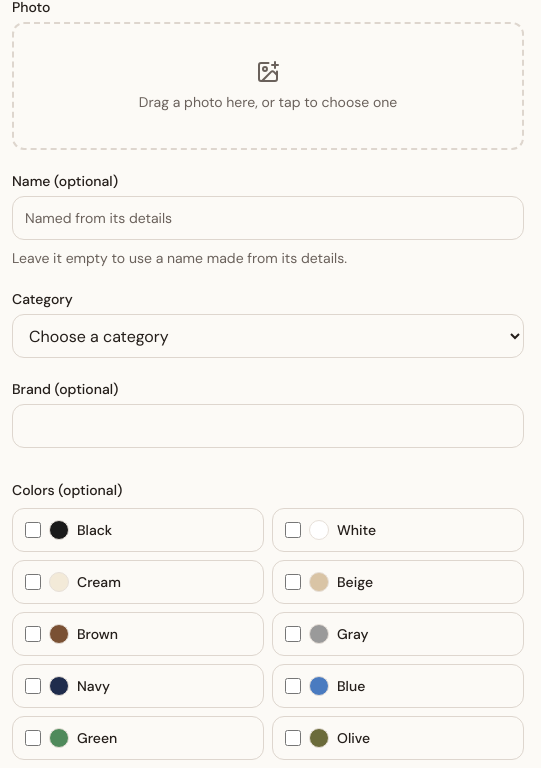
Test: keeps photos when a lost response might hide a successful save
Type "Blue shirt" into the field labelled "Name (optional)" at coordinates (268, 218), box [12,196,524,240]
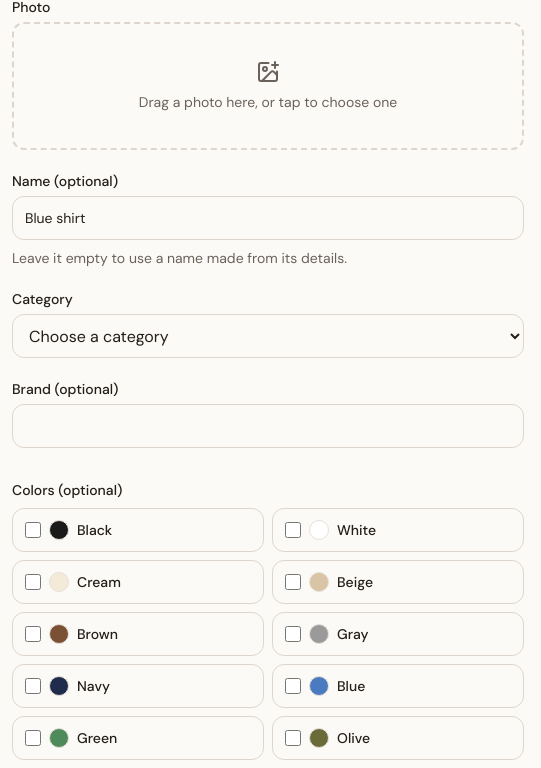
Select "Tops" in the dropdown labelled "Category" at coordinates (268, 336), box [12,314,524,358]
(page scrolled)
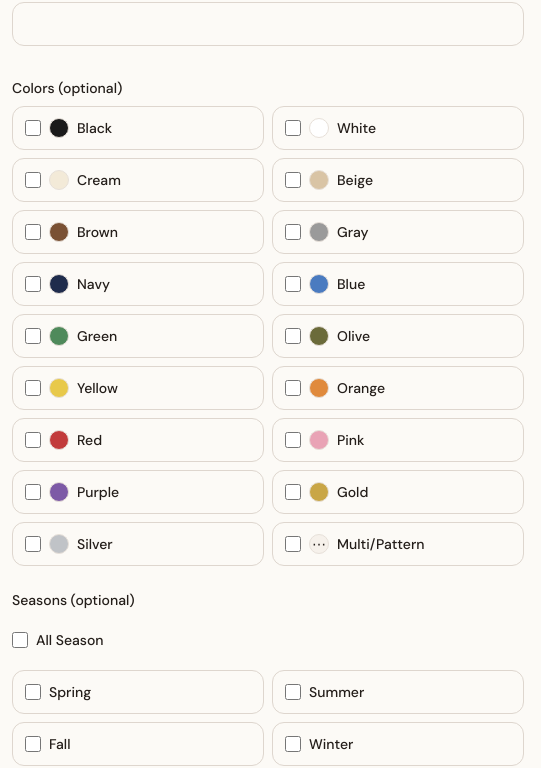
Submit the form named "Save clothing"
(page scrolled)
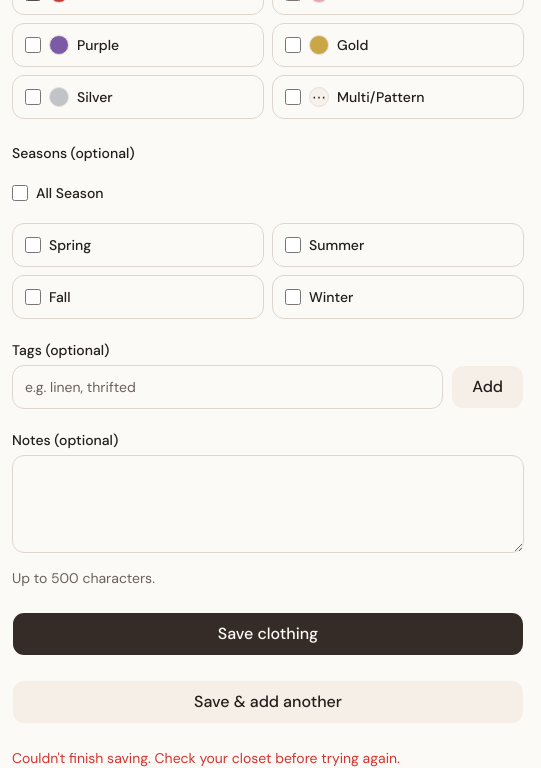
Expected: the message shows "Check your closet", [12,749,400,767]
